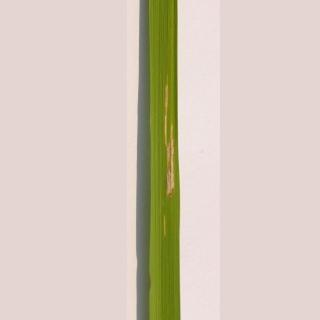Hawar-Daun: (156, 76, 187, 224)
